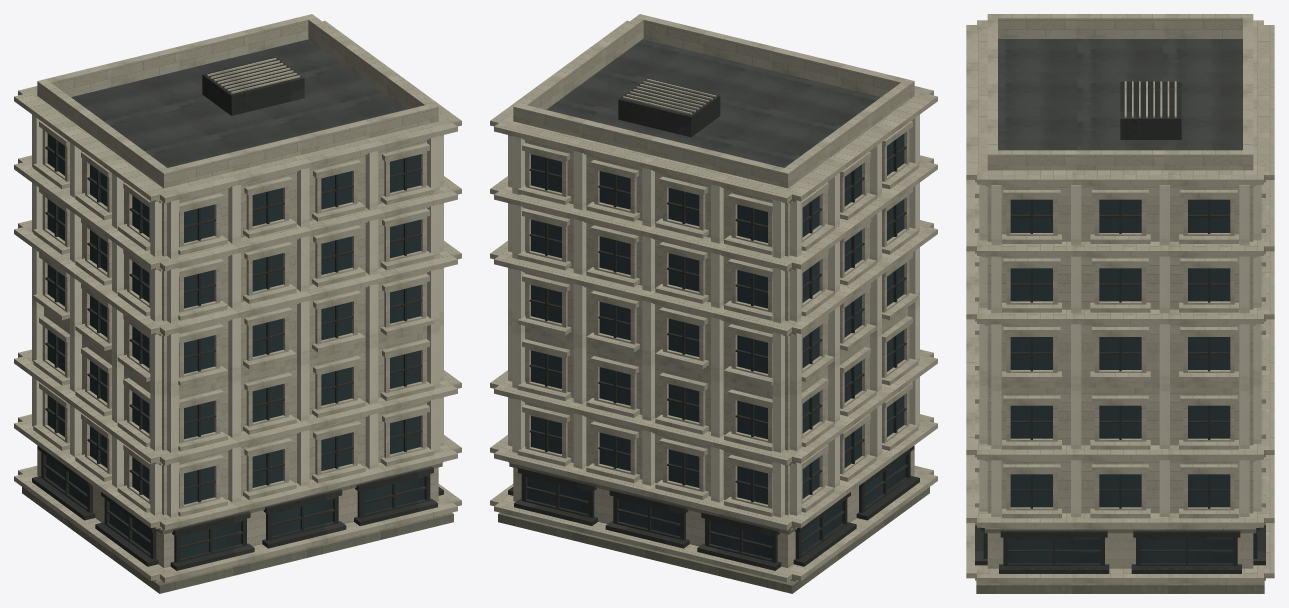
Rendered from city-offices.glb.
3 views of the same model, side by side, from view 1: azimuth 30°, elevation 25°; view 2: azimuth 150°, elevation 25°; view 3: azimuth 270°, elevation 25° (orthographic). The views are drawn at different scales.
Parts seen in each view (by area): view 1: city-offices.001; view 2: city-offices.001; view 3: city-offices.001.
Part boxes in pixels (x1,y1,x2,y2): city-offices.001: (14, 14, 461, 593); city-offices.001: (490, 14, 937, 593); city-offices.001: (966, 14, 1274, 593).
Bounding box in the file's own units: 8 × 10.2 × 6.55.
1 material, 1 textured.
